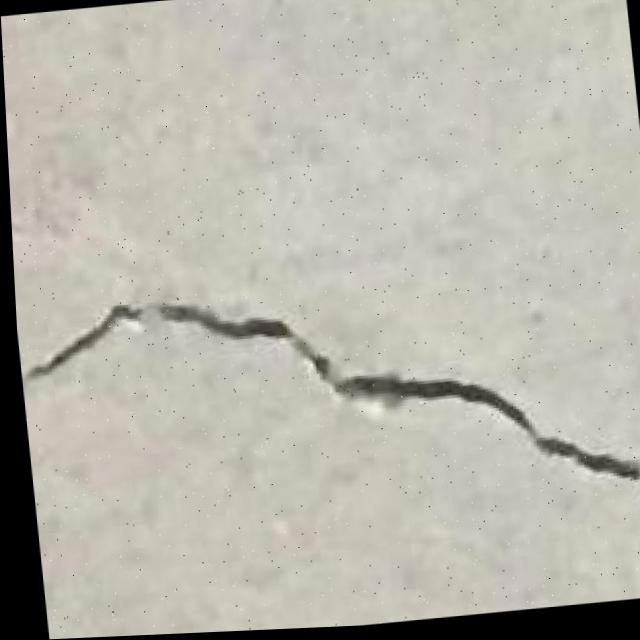Crack: (10, 235, 640, 594)
